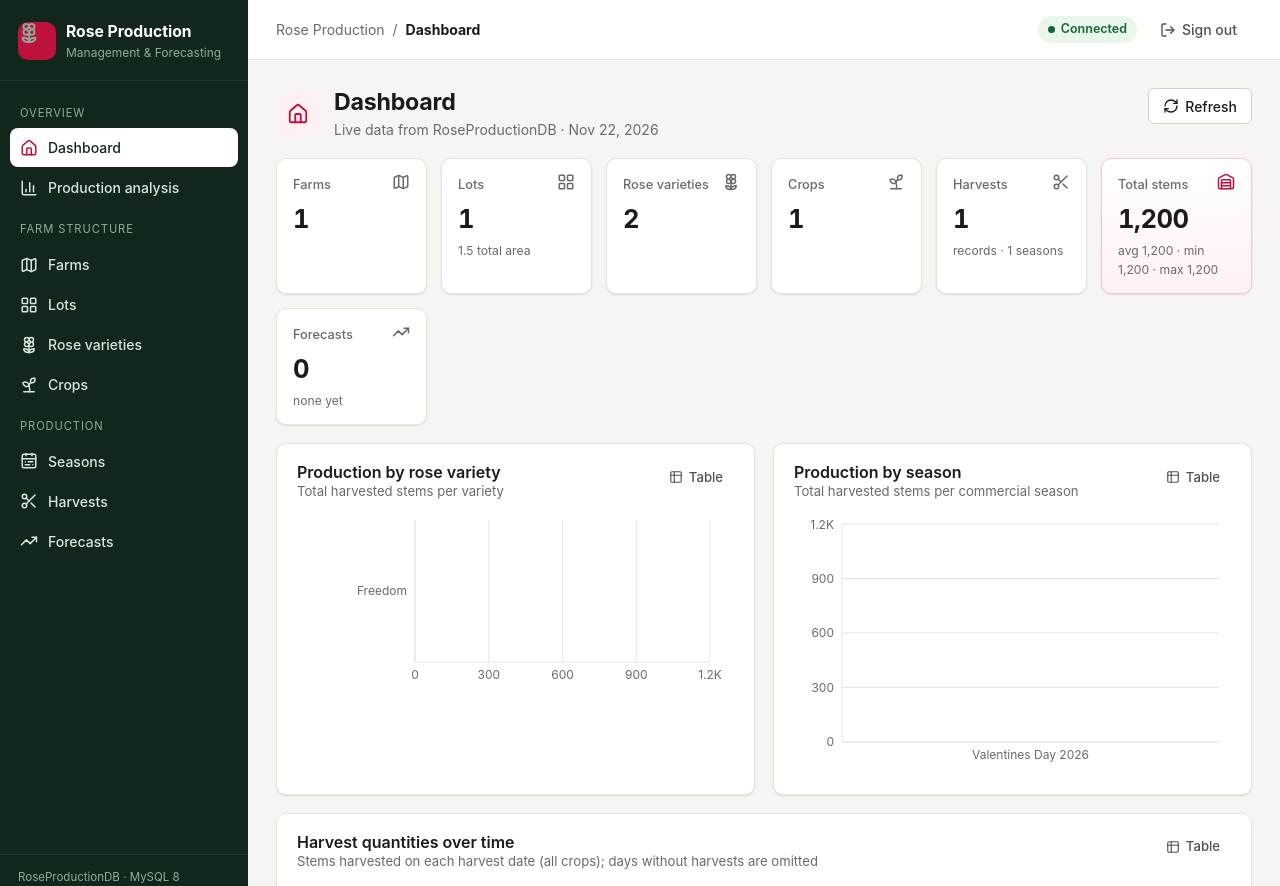
Test: navigation and dashboard › navigates to Farms from the sidebar
Expected: the heading "Dashboard" is shown, [334, 88, 456, 116]
What coordinates should you click on to do the following:
click the link "Farms"
I would click on:
 (55, 265)
Its box is [20, 256, 90, 274].
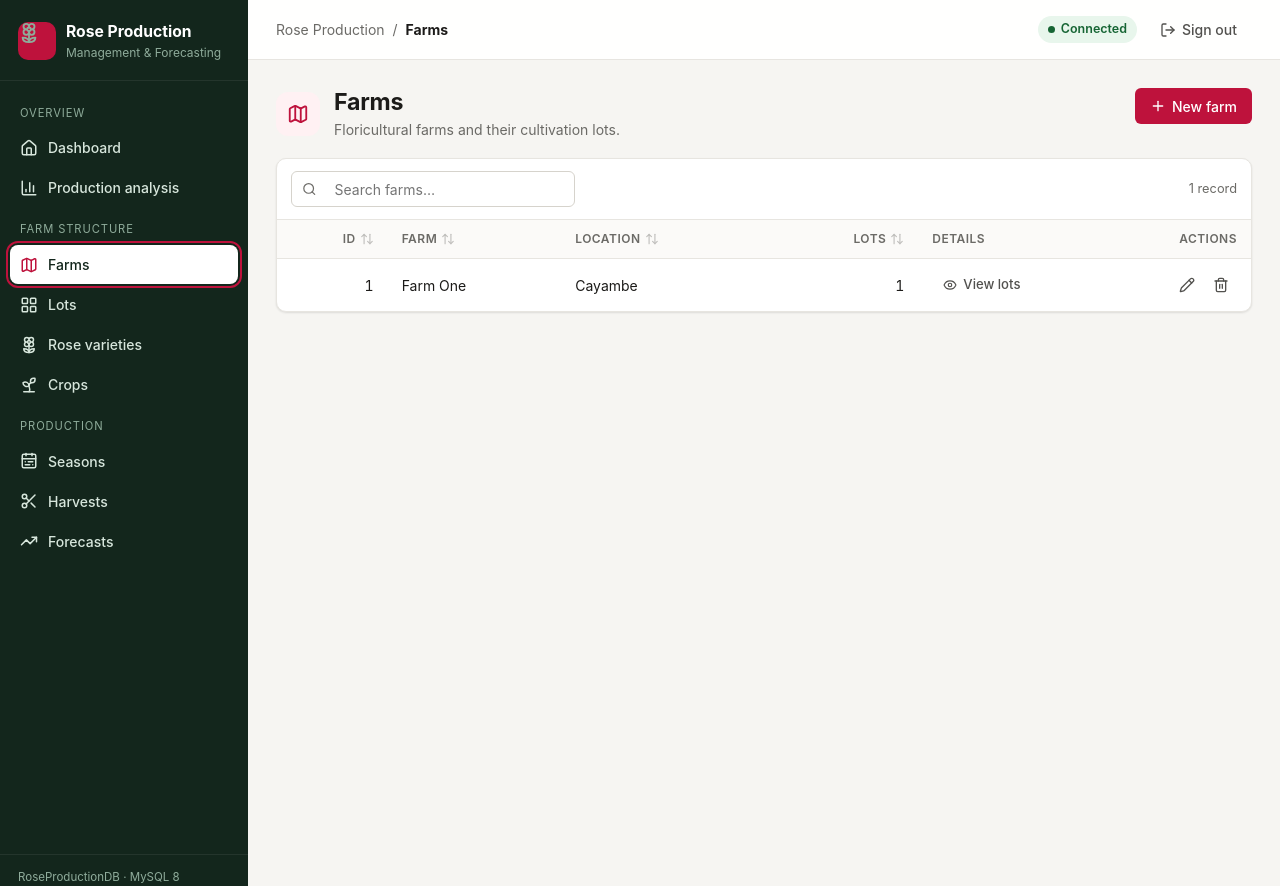
Result: the heading "Farms" is shown at [334, 88, 403, 116]
Result: the text "Farm One" is shown at [388, 258, 561, 311]
